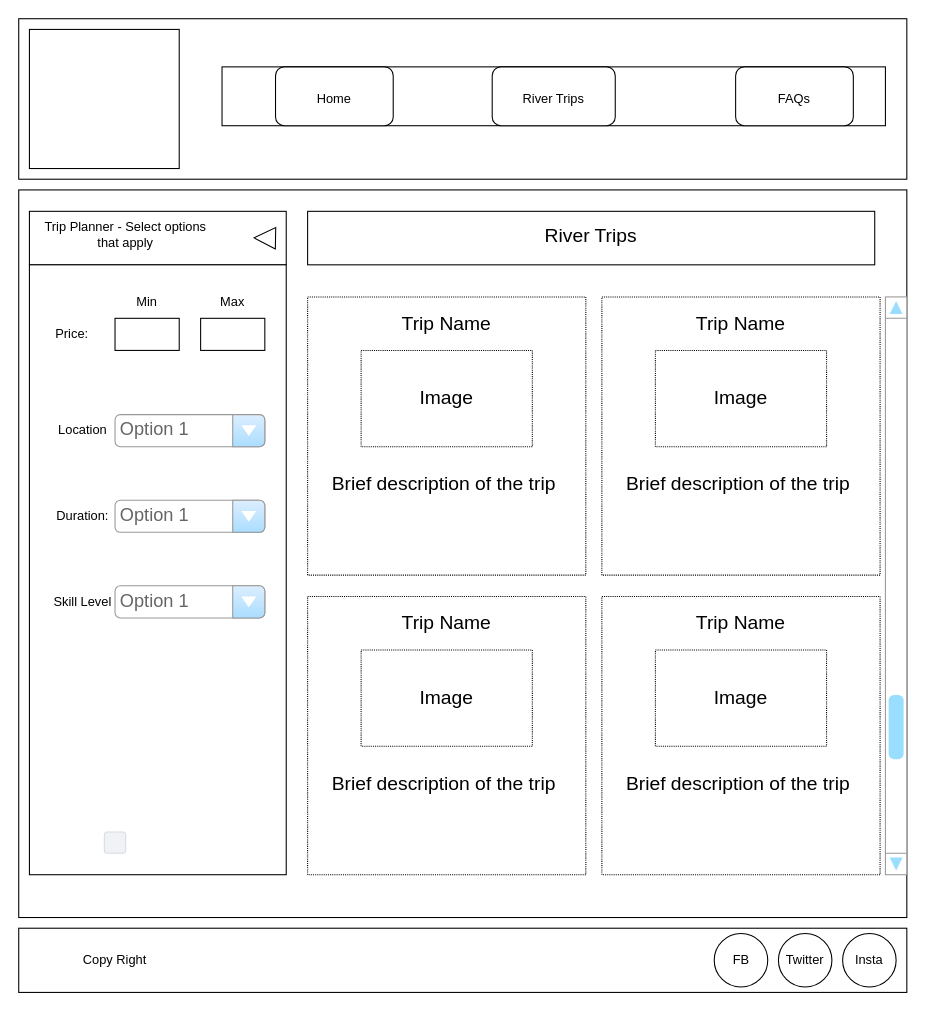
This 926x1011 diagram has some shape labels left out. The centre of each missing label's shape, as x and y in pixels:
"Logo" goes at (x=103, y=98).
"Select All" goes at (x=114, y=842).
